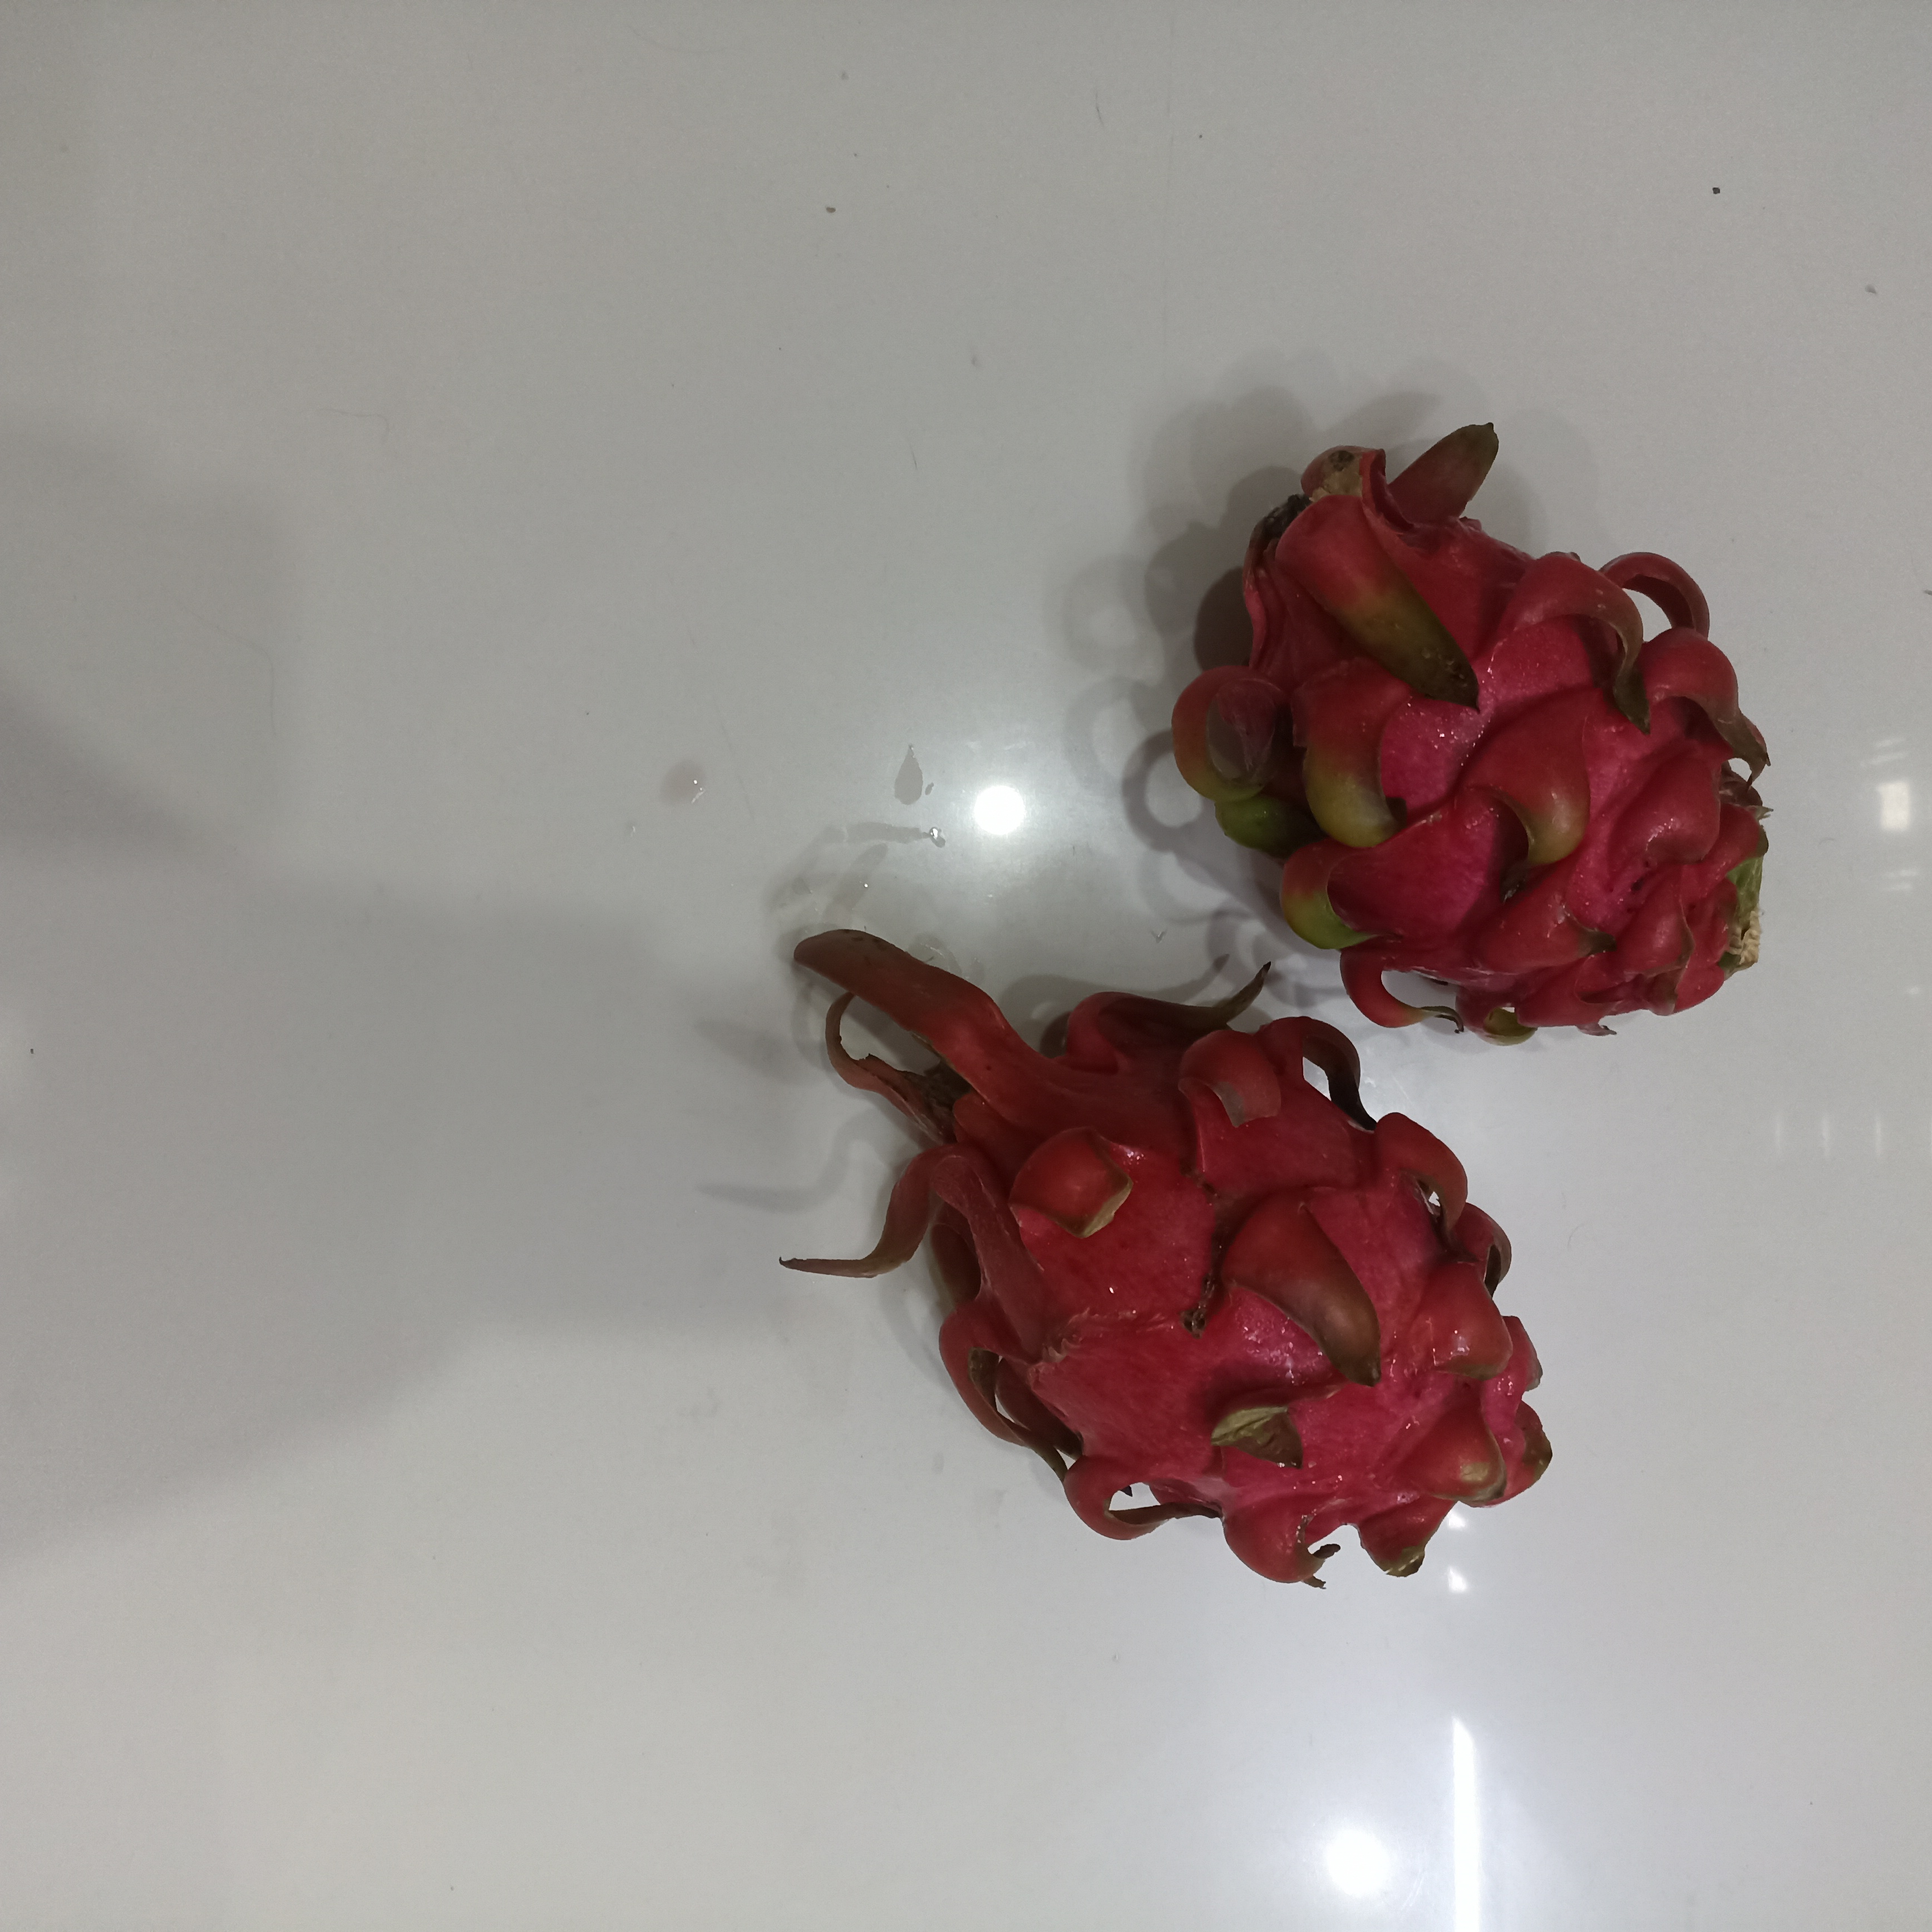Thanh long: (909, 989, 1560, 1560), (1178, 460, 1780, 1031)
